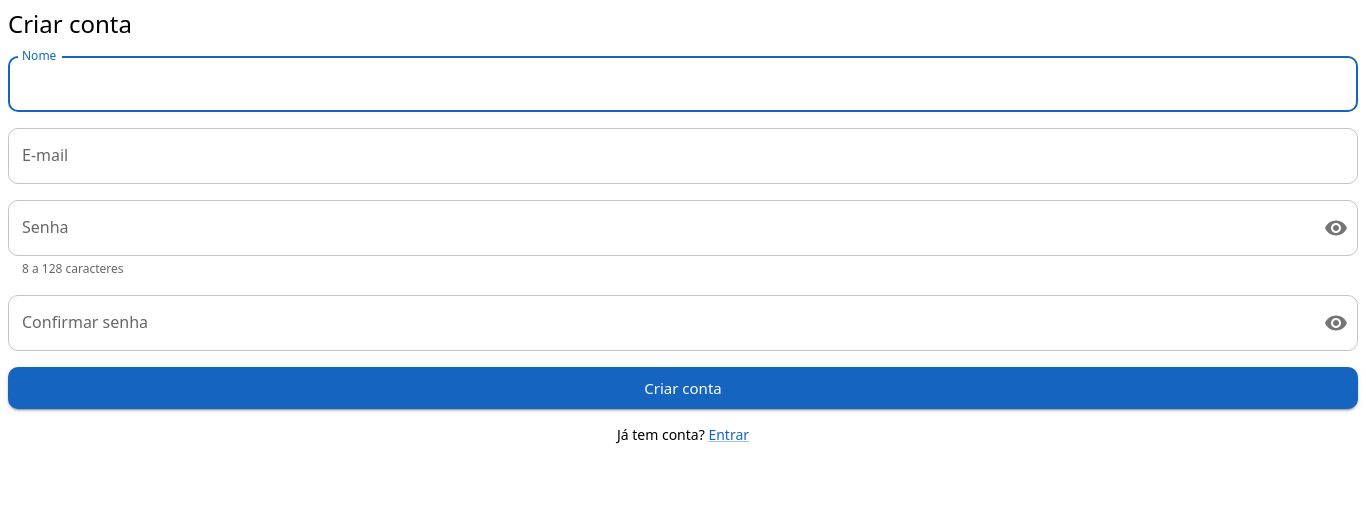
it: Registro: validação no cliente › nome curto, e-mail malformado e senha curta: as mensagens do backend, junto de cada campo
Type "A" into the field labelled "Nome".
click(683, 84); type("A")  # box [8,56,1358,112]
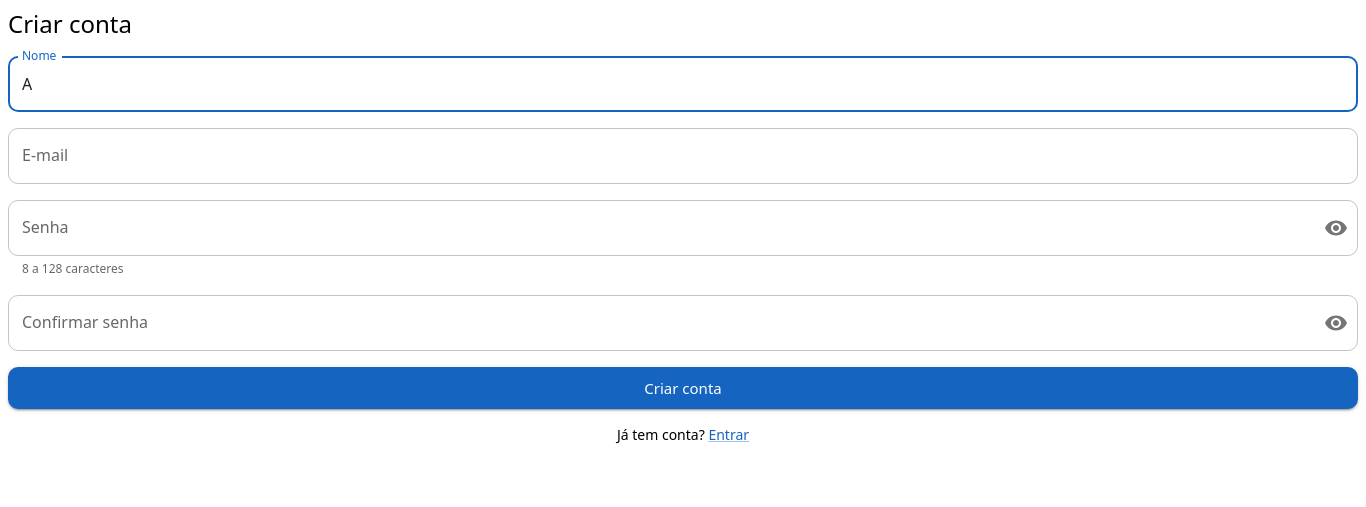
Type "nao-e-email" into the field labelled "E-mail".
click(683, 156); type("nao-e-email")  # box [8,128,1358,184]
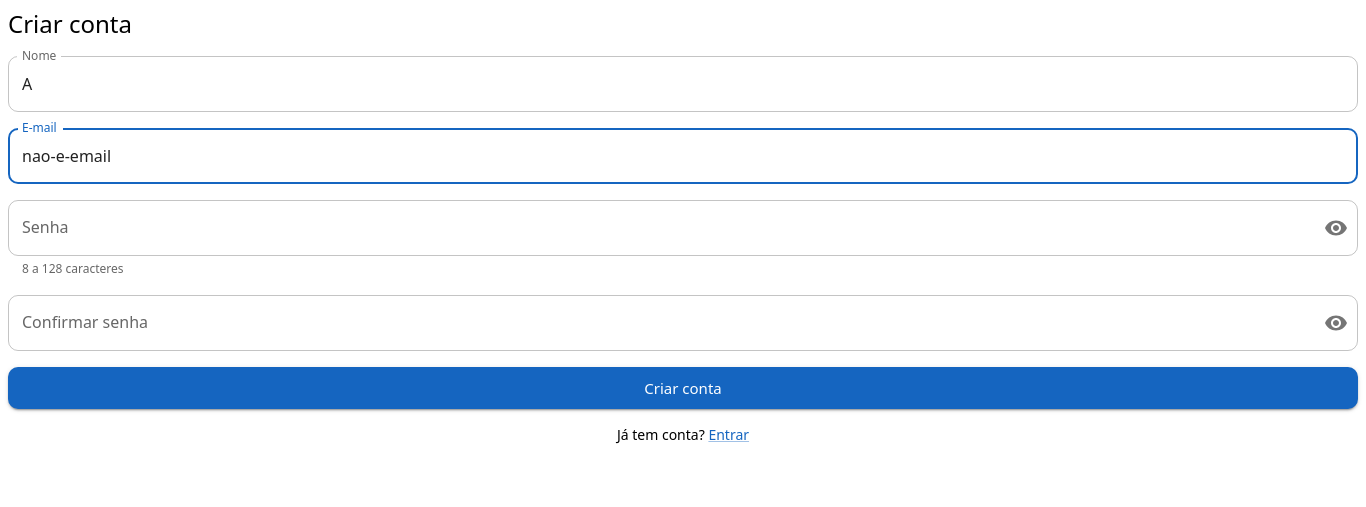
Type "curta" into the password field labelled "Senha".
click(658, 228); type("curta")  # box [8,200,1308,256]
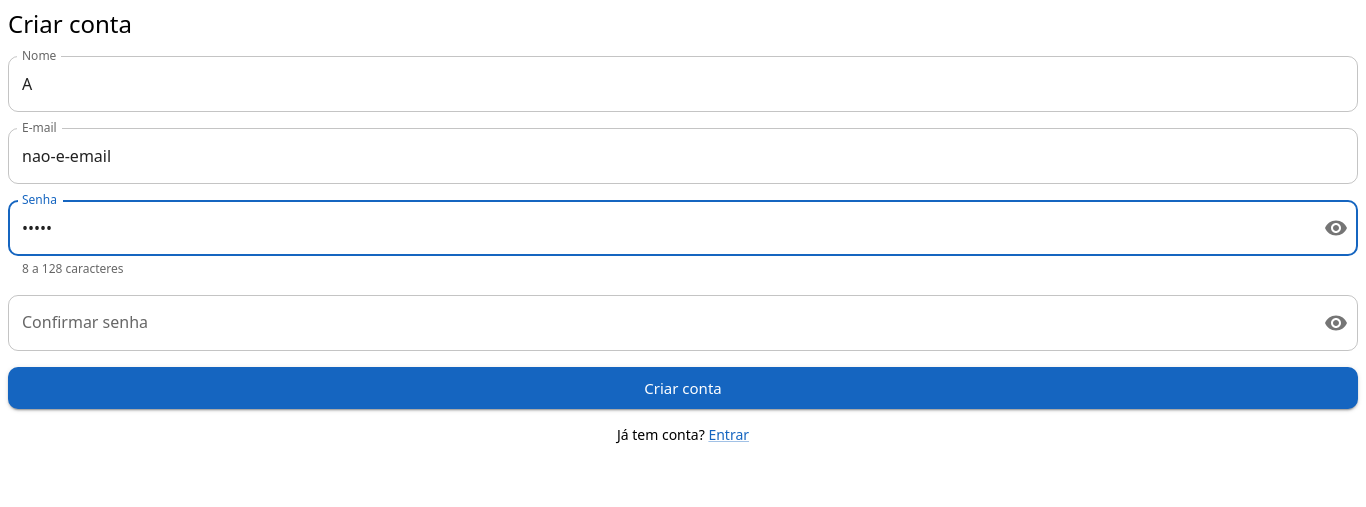
Type "curta" into the password field labelled "Confirmar senha".
click(658, 323); type("curta")  # box [8,295,1308,351]
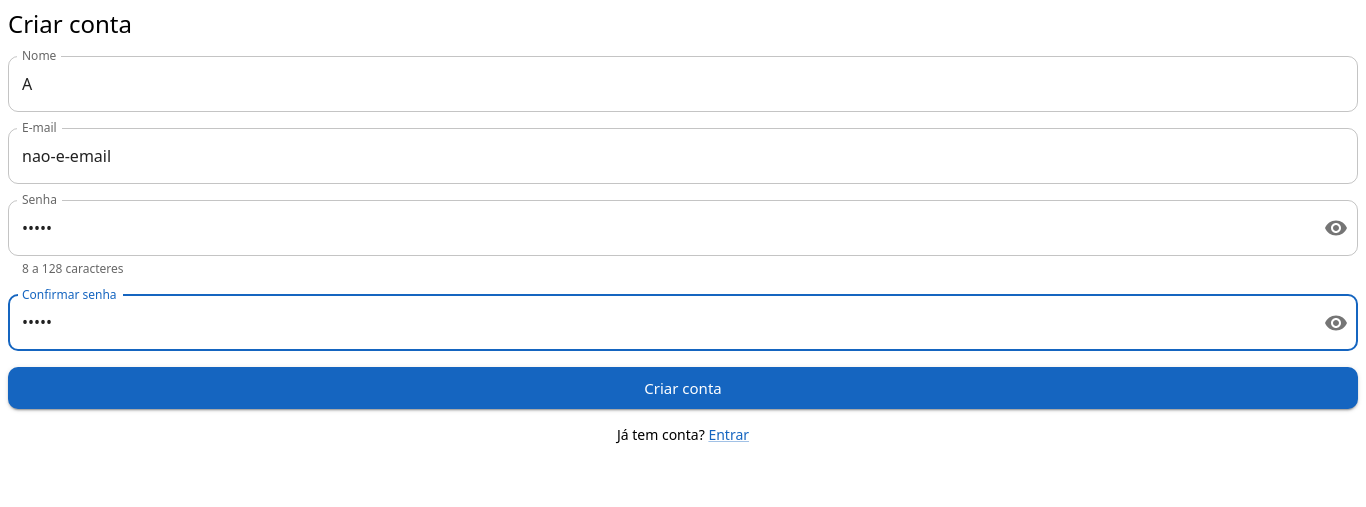
Click the button "Criar conta".
click(683, 388)  # box [8,367,1358,409]
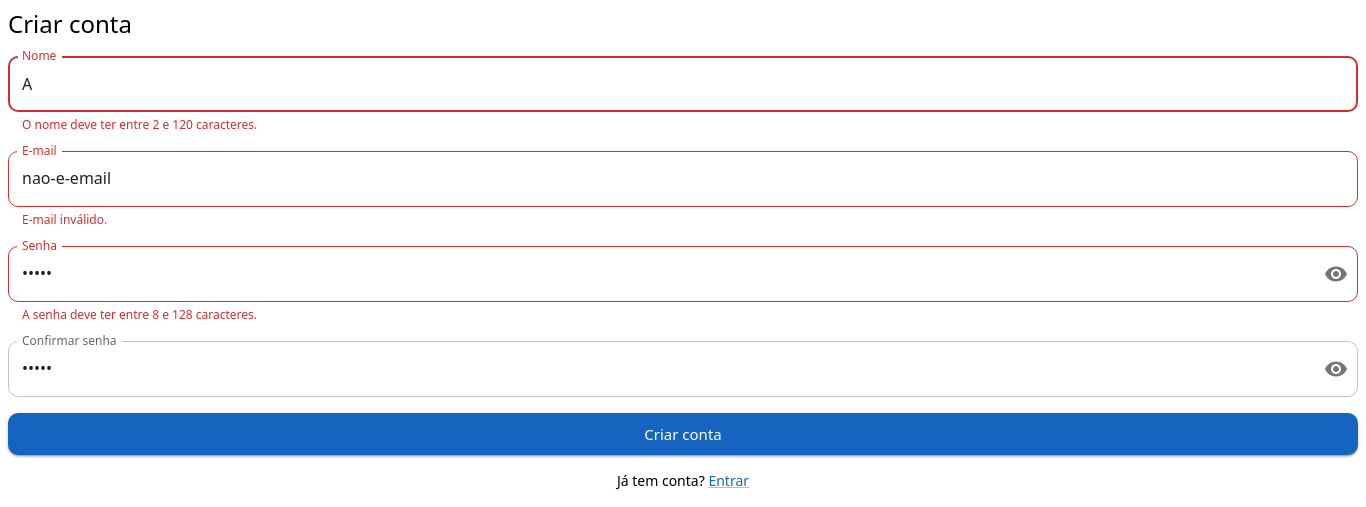
Result: the text "O nome deve ter entre 2 e 120 caracteres." is shown at [22,116,257,133]
Result: the text "E-mail inválido." is shown at [22,211,107,228]
Result: the text "A senha deve ter entre 8 e 128 caracteres." is shown at [22,306,257,323]
